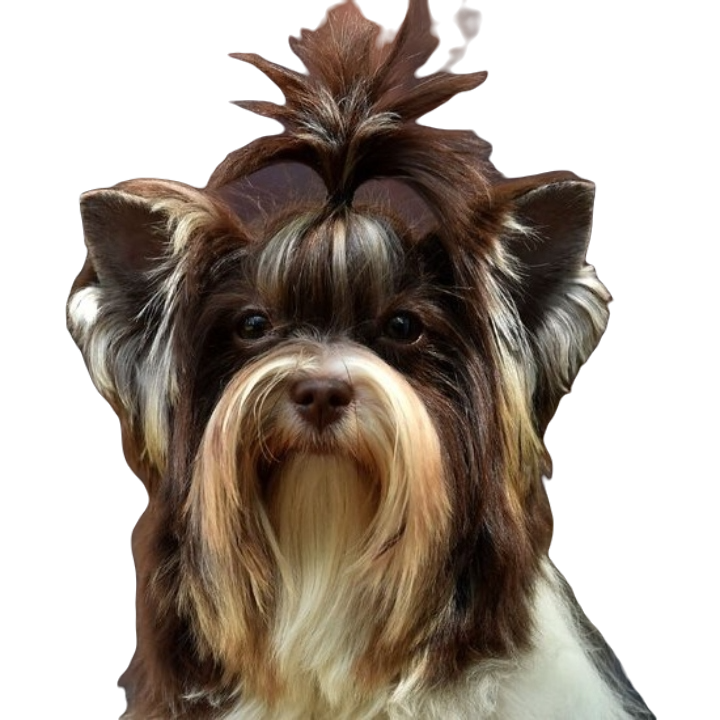Dog: (65, 0, 657, 719)
